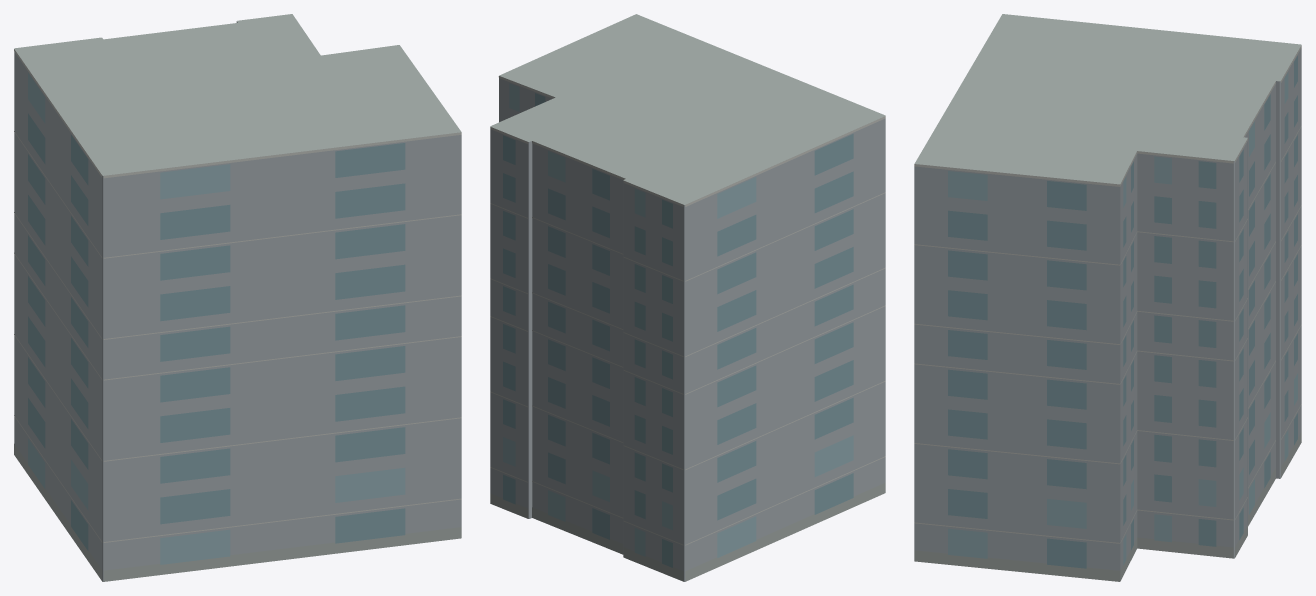
Rendered from survey-upis-32746138.glb.
3 views of the same model, side by side, from view 1: azimuth 30°, elevation 25°; view 2: azimuth 150°, elevation 25°; view 3: azimuth 270°, elevation 25° (orthographic). The views are drawn at different scales.
Visible parts, largest first — view 1: survey-upis-32746138.tmp; view 2: survey-upis-32746138.tmp; view 3: survey-upis-32746138.tmp.
Part boxes in pixels (left/top/right/bottom): survey-upis-32746138.tmp: left=14, top=14, right=461, bottom=581; survey-upis-32746138.tmp: left=490, top=14, right=885, bottom=581; survey-upis-32746138.tmp: left=914, top=14, right=1301, bottom=581.
Bounding box in the file's own units: 35.61 × 38.7 × 34.19.
